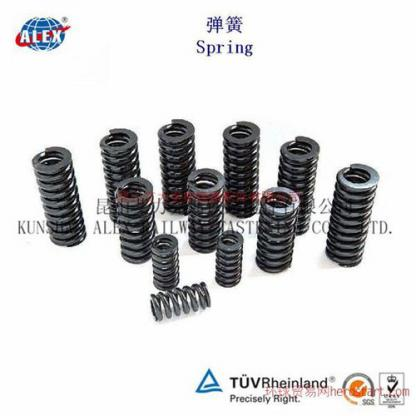FOD: (323, 162, 380, 270), (32, 143, 87, 248), (274, 132, 321, 236), (98, 126, 144, 222), (110, 178, 160, 266), (155, 115, 199, 214), (255, 184, 301, 274), (223, 118, 262, 218), (186, 165, 226, 257), (146, 281, 211, 325), (213, 229, 244, 291), (150, 230, 180, 290)
